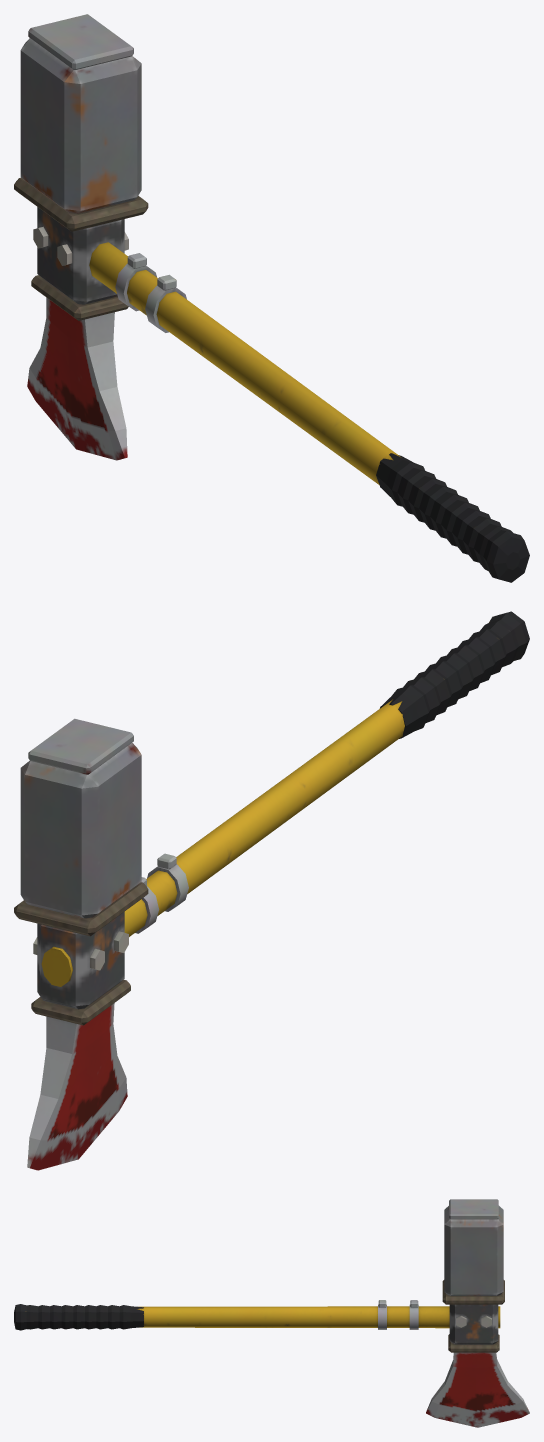
The model's file is AC_Hachamazo.fbx.
3 renders of one model, top to bottom at view 1: azimuth 30°, elevation 25°; view 2: azimuth 150°, elevation 25°; view 3: azimuth 270°, elevation 25°, orthographic. The views are drawn at different scales.
Parts seen in each view (by area): view 1: AC_Hachamazo; view 2: AC_Hachamazo; view 3: AC_Hachamazo.
Part boxes in pixels (x1,y1,x2,y2): AC_Hachamazo: [14, 14, 529, 582]; AC_Hachamazo: [14, 611, 529, 1170]; AC_Hachamazo: [14, 1199, 529, 1427].
Size of the model in its own units: 0.0672 by 0.69 by 0.3259.
